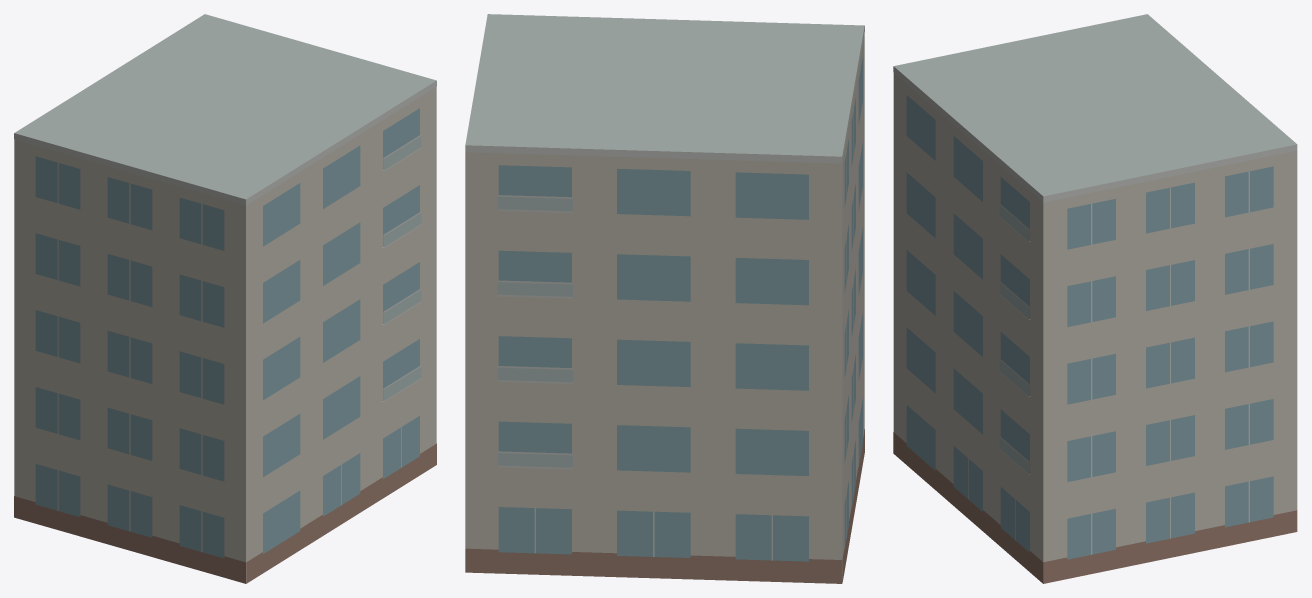
File: residential-d082df75-5fcc-478a-9bc9-bbc13a8bfb39.glb
3 renders of one model, left to right at view 1: azimuth 30°, elevation 25°; view 2: azimuth 150°, elevation 25°; view 3: azimuth 270°, elevation 25°, orthographic. The views are drawn at different scales.
Visible parts, largest first — view 1: residential-d082df75-5fcc-478a-9bc9-bbc13a8bfb39.tmp; view 2: residential-d082df75-5fcc-478a-9bc9-bbc13a8bfb39.tmp; view 3: residential-d082df75-5fcc-478a-9bc9-bbc13a8bfb39.tmp.
Part boxes in pixels (bbox=[...]): residential-d082df75-5fcc-478a-9bc9-bbc13a8bfb39.tmp: bbox=[14, 14, 436, 583]; residential-d082df75-5fcc-478a-9bc9-bbc13a8bfb39.tmp: bbox=[465, 14, 864, 583]; residential-d082df75-5fcc-478a-9bc9-bbc13a8bfb39.tmp: bbox=[893, 14, 1297, 583].
Size of the model in its own units: 15.41 by 15.25 by 14.42.
